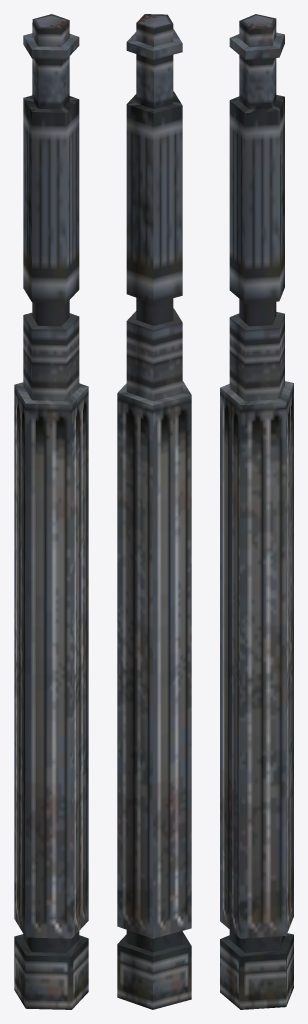
Rendered from eqp_tool_hydrospanner_l0.fbx.
3 views of the same model, side by side, from view 1: azimuth 30°, elevation 25°; view 2: azimuth 210°, elevation 25°; view 3: azimuth 330°, elevation 25° (orthographic).
Parts seen in each view (by area): view 1: mesh_node; view 2: mesh_node; view 3: mesh_node.
Boxes of the visible parts, x1,y1,x2,y2 form: mesh_node: [14, 14, 88, 1009]; mesh_node: [117, 14, 191, 1009]; mesh_node: [220, 14, 293, 1009].
Size of the model in its own units: 0.0237 by 0.3419 by 0.0229.
